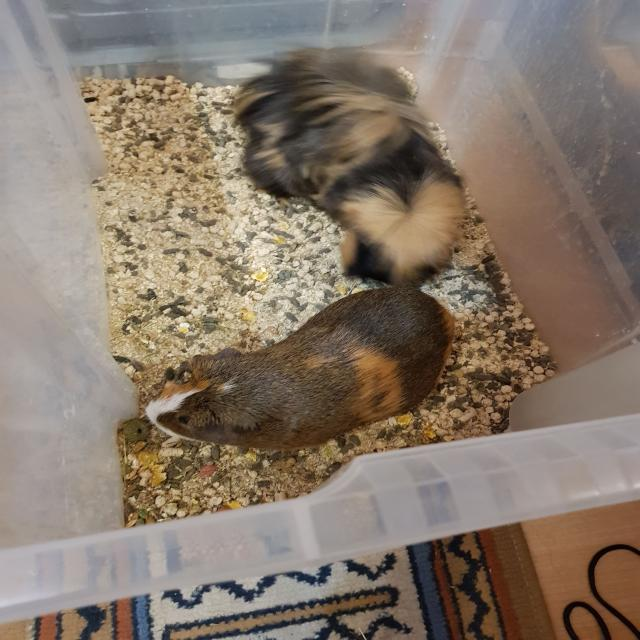guinea pig: (228, 51, 469, 286), (142, 288, 456, 452)
